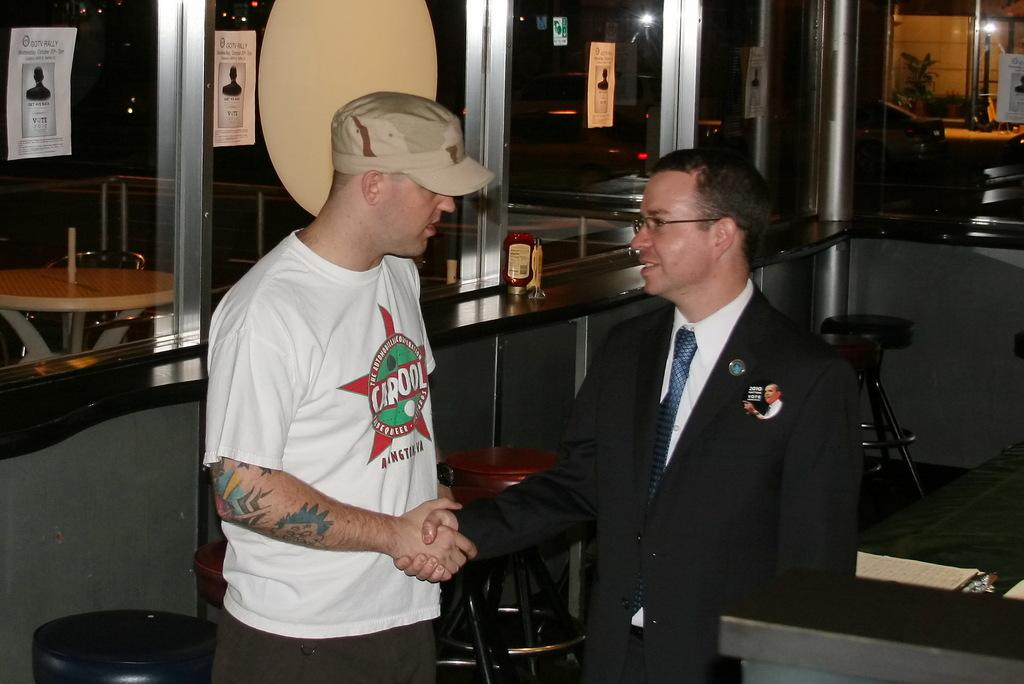Hat: (330, 91, 502, 199)
